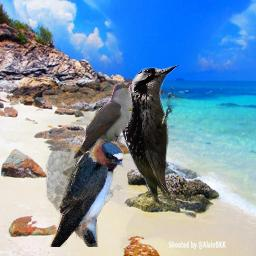Cuckoo: (73, 82, 133, 198)
Swallow: (45, 139, 124, 247)
Woodpecker: (114, 58, 183, 211)
